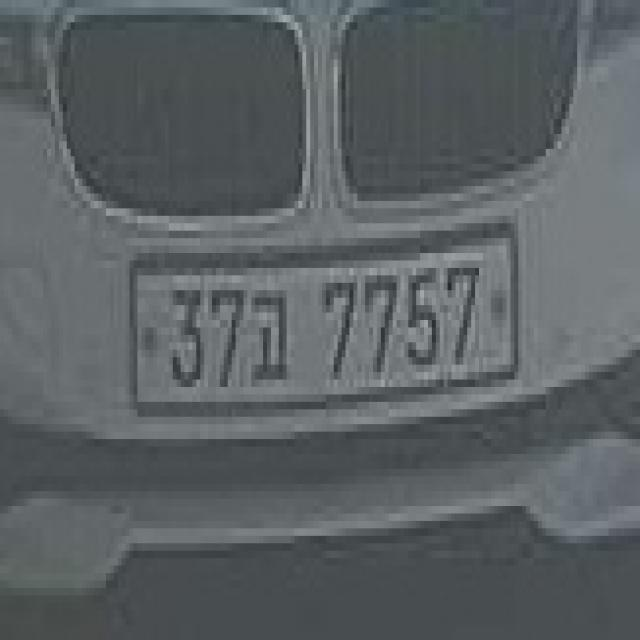3: (165, 283, 204, 387)
5: (404, 260, 440, 364)
7: (361, 268, 401, 372), (212, 275, 247, 387), (444, 261, 483, 357), (322, 275, 357, 372)
go: (248, 283, 290, 394)
license_plate: (126, 223, 522, 417)
